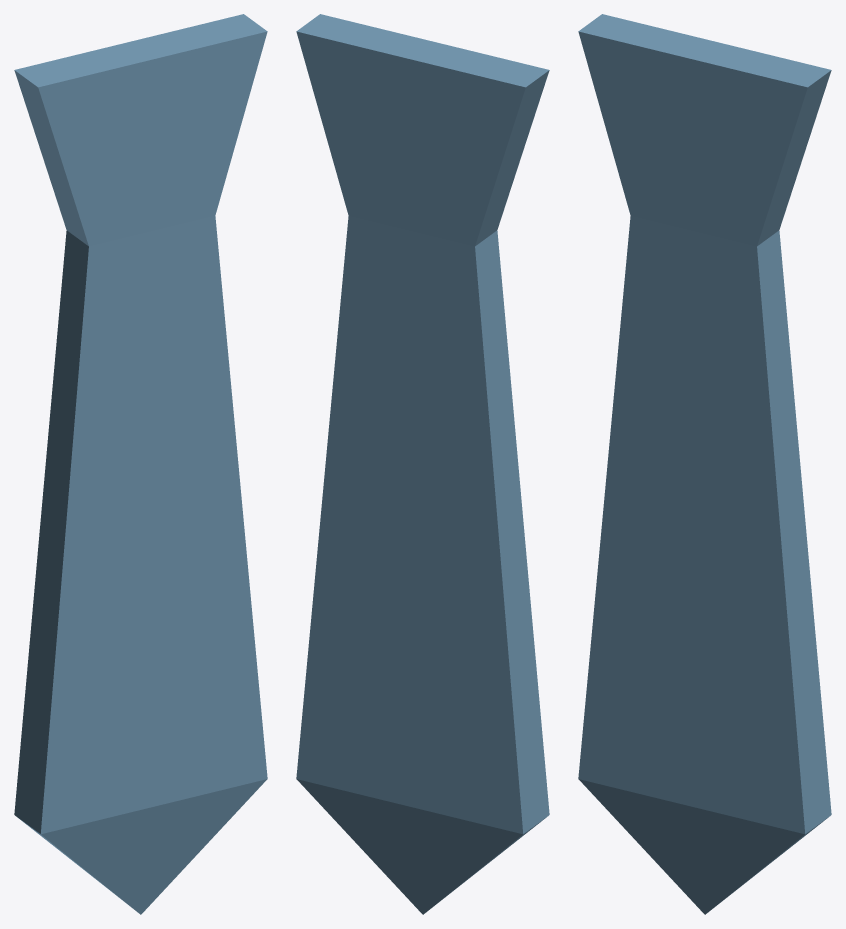
File: Tie.fbx
3 views of the same model, side by side, from view 1: azimuth 30°, elevation 25°; view 2: azimuth 150°, elevation 25°; view 3: azimuth 330°, elevation 25° (orthographic).
Visible parts, largest first — view 1: Cube.005; view 2: Cube.005; view 3: Cube.005.
Boxes of the visible parts, x1=… form: Cube.005: x1=14, y1=14, x2=267, y2=914; Cube.005: x1=296, y1=14, x2=549, y2=914; Cube.005: x1=578, y1=14, x2=831, y2=914.
Bounding box in the file's own units: 10.38 × 37.35 × 2.07.
